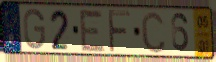2: (47, 6, 72, 52)
6: (170, 12, 191, 56)
C: (139, 10, 167, 55)
E: (78, 8, 107, 54)
F: (107, 8, 132, 55)
G: (22, 8, 47, 51)
